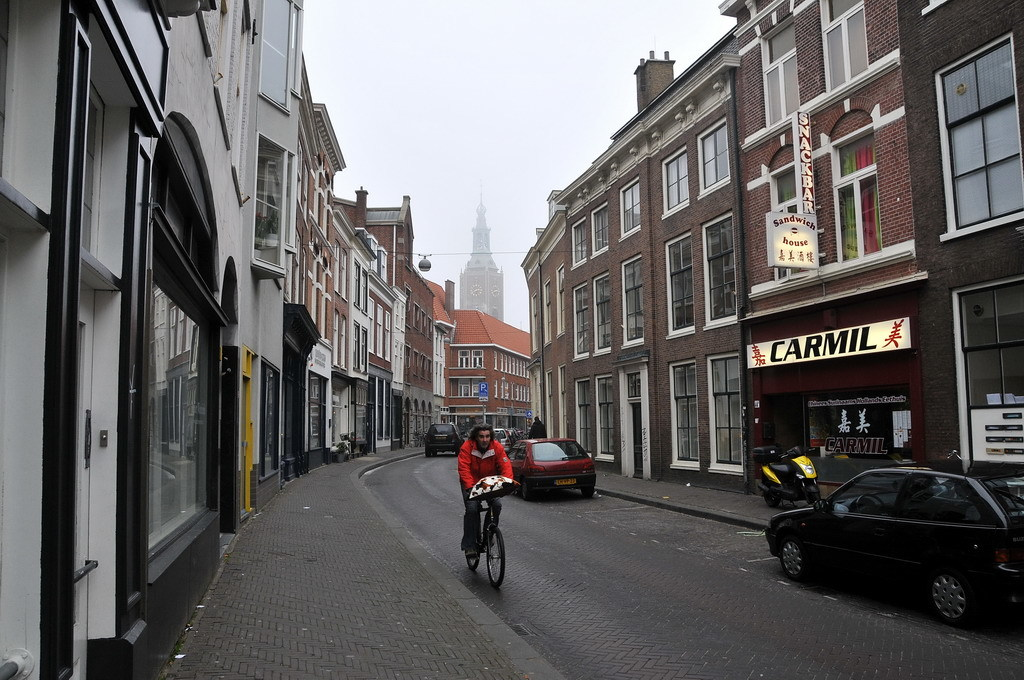Car: (764, 457, 1022, 622), (421, 421, 597, 499)
